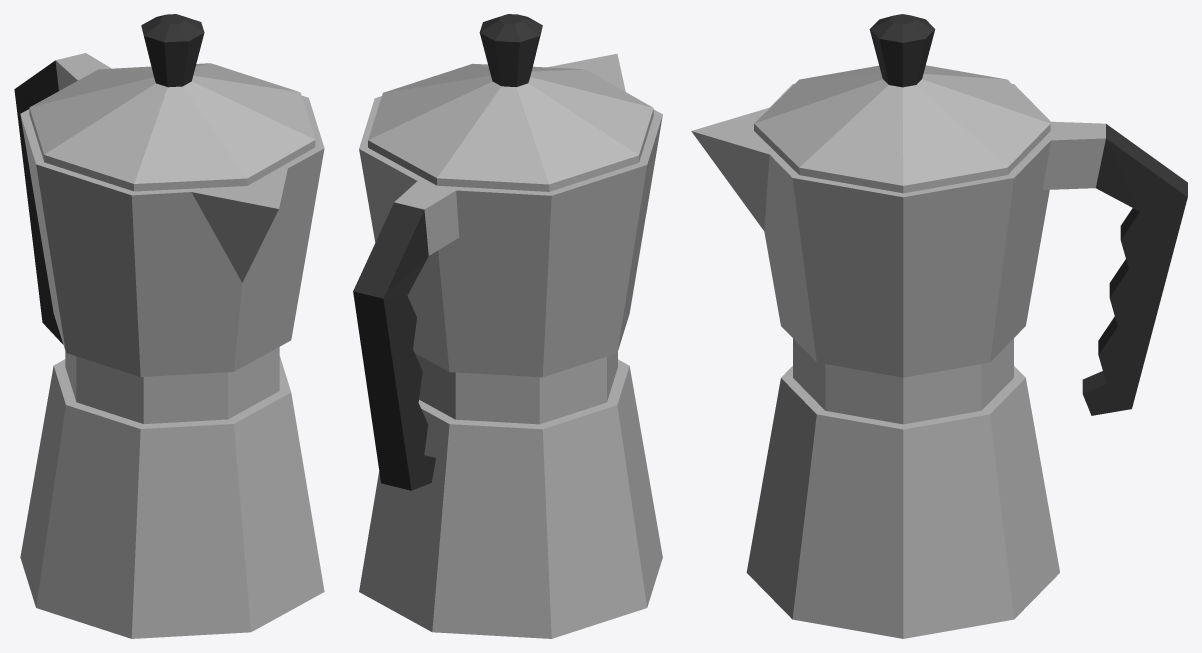
File: moka.glb
3 views of the same model, side by side, from view 1: azimuth 30°, elevation 25°; view 2: azimuth 150°, elevation 25°; view 3: azimuth 270°, elevation 25° (orthographic).
Visible parts, largest first — view 1: node-0; view 2: node-0; view 3: node-0.
Boxes of the visible parts, bbox=[...] form: node-0: bbox=[14, 14, 324, 638]; node-0: bbox=[353, 14, 662, 638]; node-0: bbox=[691, 14, 1187, 638].
Bounding box in the file's own units: 0.1898 × 0.3696 × 0.3006.
1 material, 1 textured.
